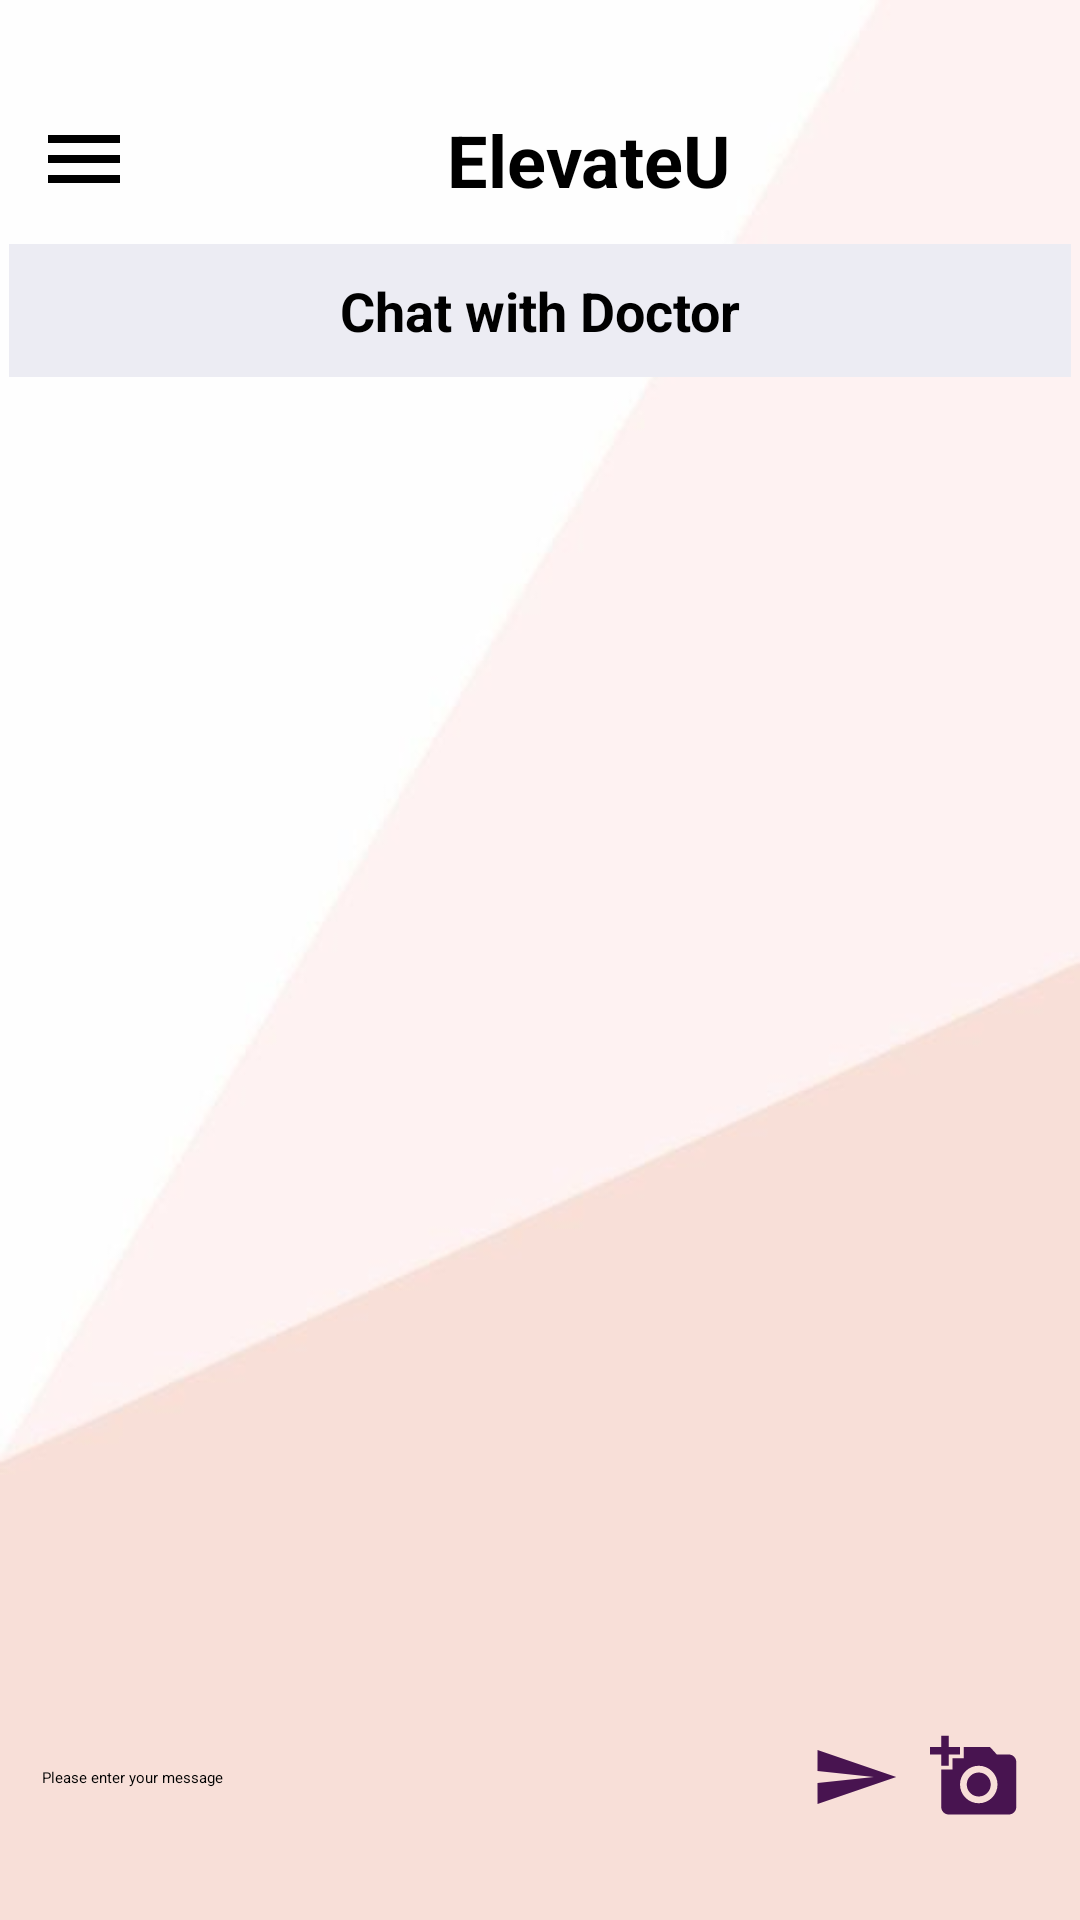

Point at icon controls on the screen. Image size 1080×1920, points as [x,y].
add photo: [973,1775]
menu: [84,159]
send: [856,1777]
